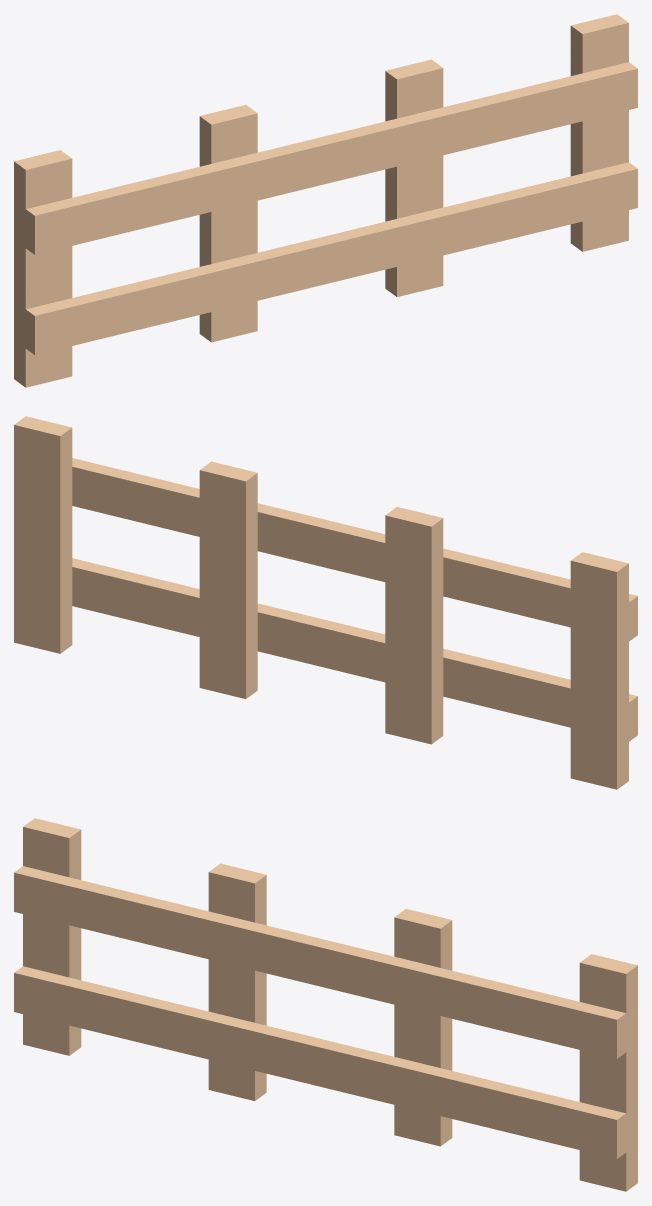
The model's file is fence_double.glb.
The picture shows the model from 3 angles, top to bottom: view 1: azimuth 30°, elevation 25°; view 2: azimuth 150°, elevation 25°; view 3: azimuth 330°, elevation 25°; orthographic projection.
Visible parts, largest first — view 1: fence_double; view 2: fence_double; view 3: fence_double.
Boxes of the visible parts, bbox=[...] form: fence_double: bbox=[14, 14, 637, 387]; fence_double: bbox=[14, 416, 637, 789]; fence_double: bbox=[14, 818, 637, 1191].
Bounding box in the file's own units: 1 × 0.345 × 0.0599.
